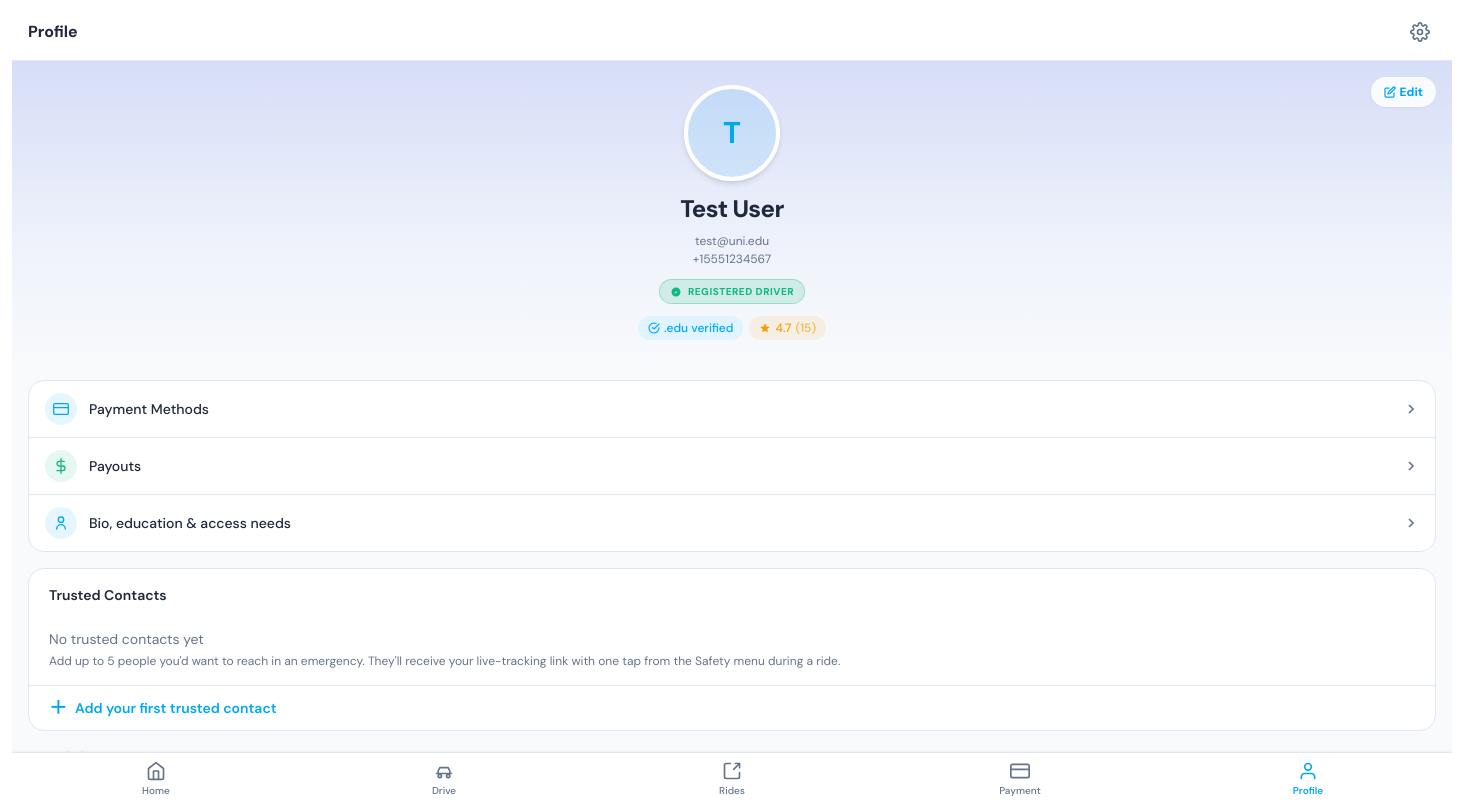
Test case: ProfilePage › shows validation error when name is empty
Click the button with test id "edit-profile-button" at (1403, 92), box 1370,77 -> 1436,107
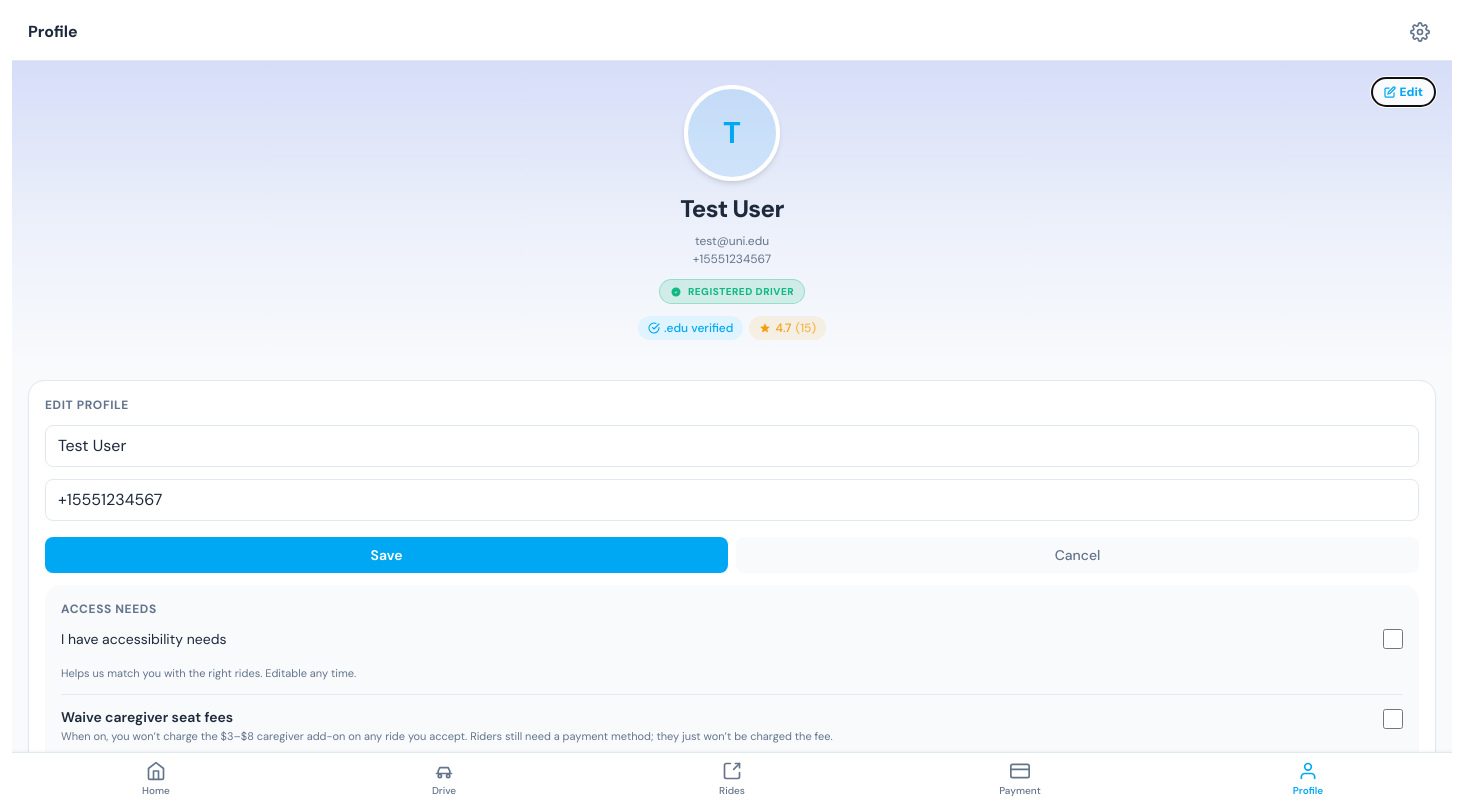
Clear the field with test id "edit-name-input" at (732, 446), box 45,425 -> 1419,467
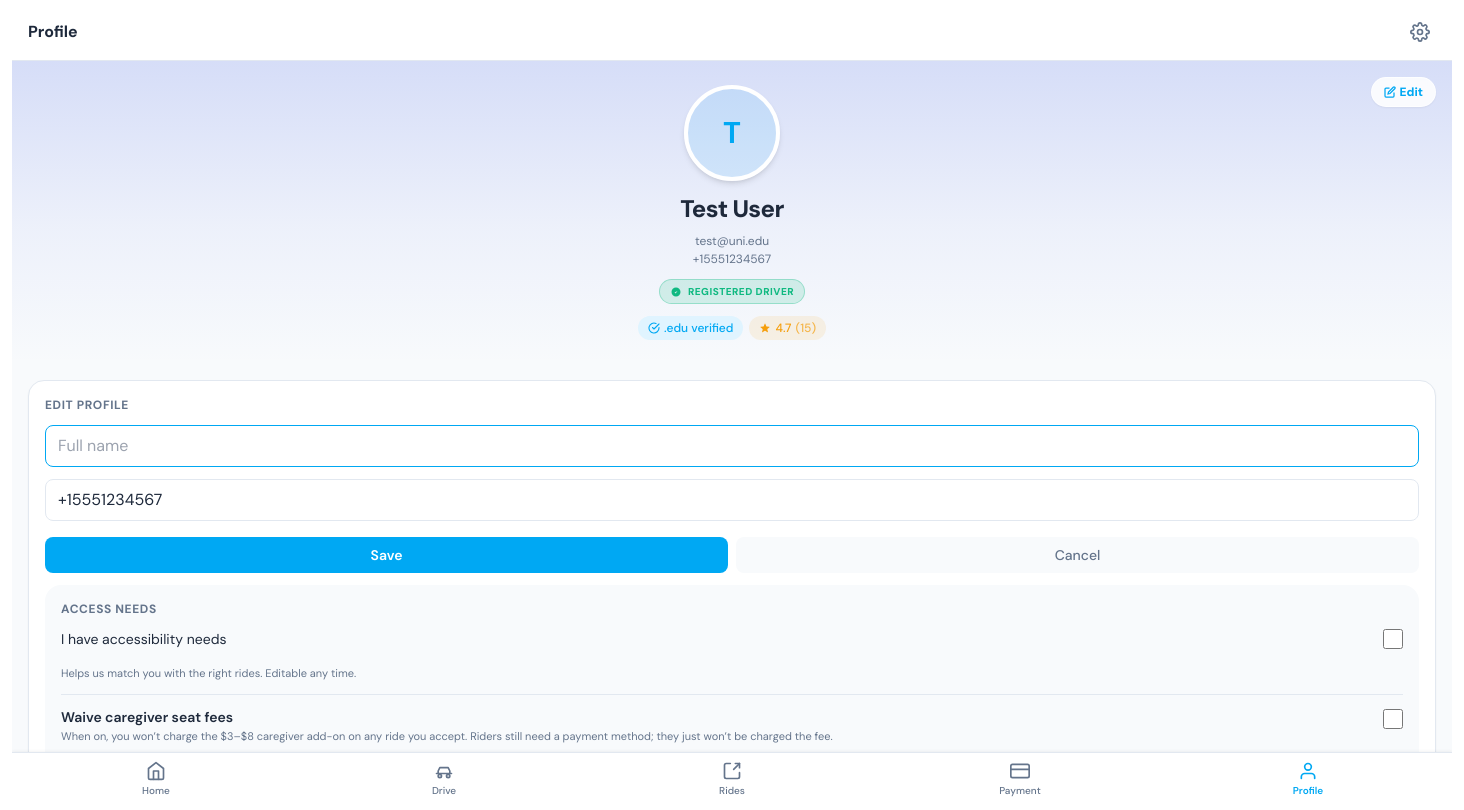
Click the button with test id "save-profile-button" at (386, 555), box 45,537 -> 728,573
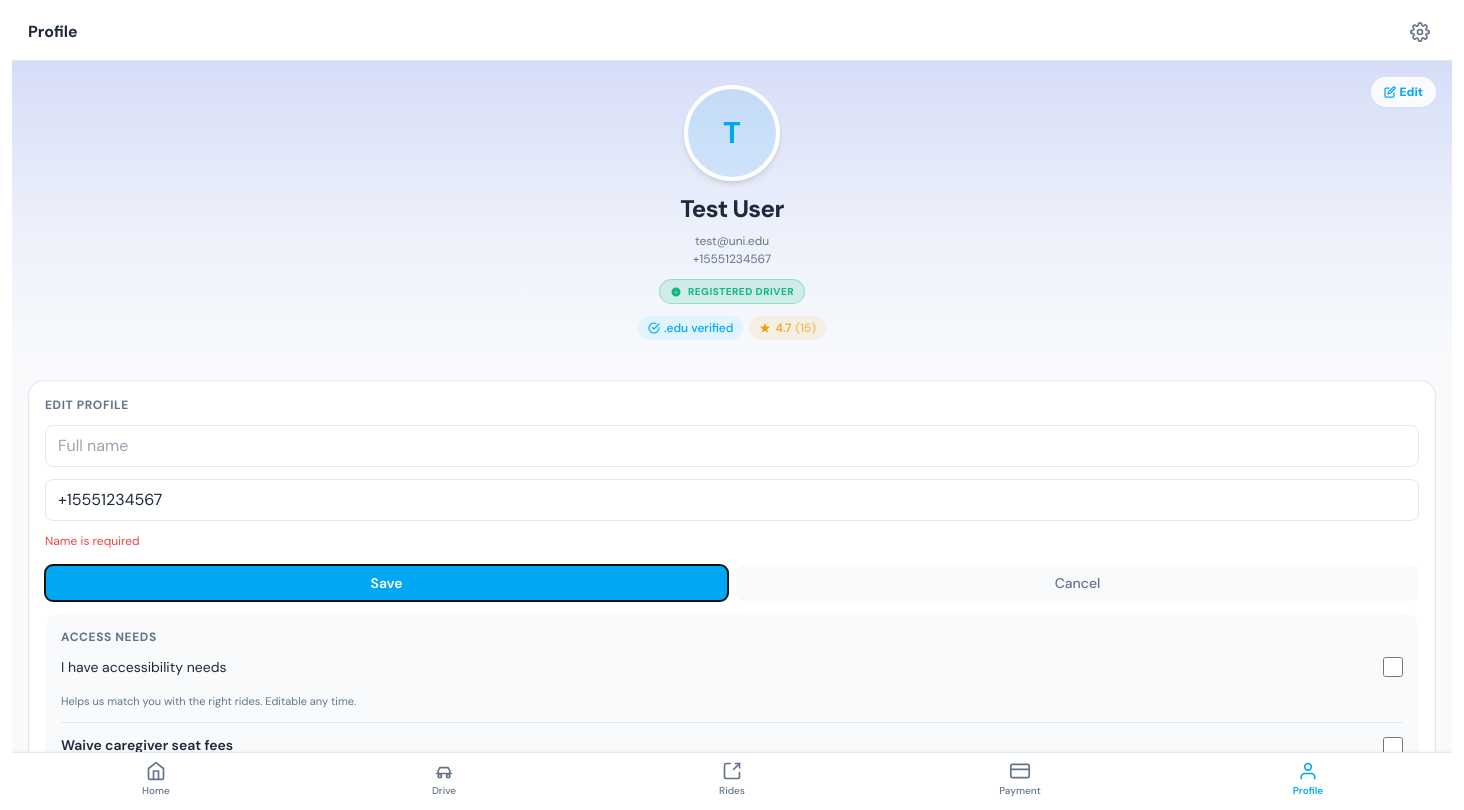
Expected: the text with test id "edit-error" reads "Name is required", 45,533 -> 140,549
